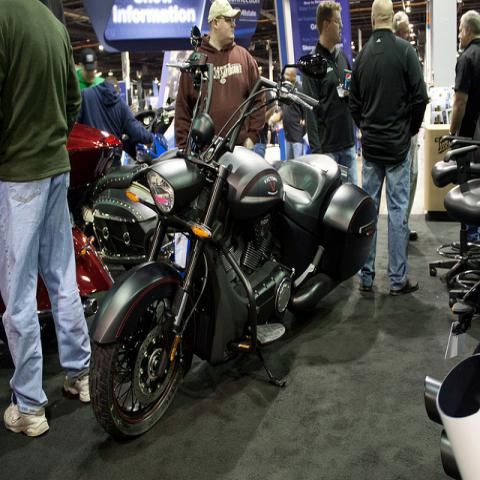motorcycle: (89, 49, 380, 426), (34, 105, 162, 340)
